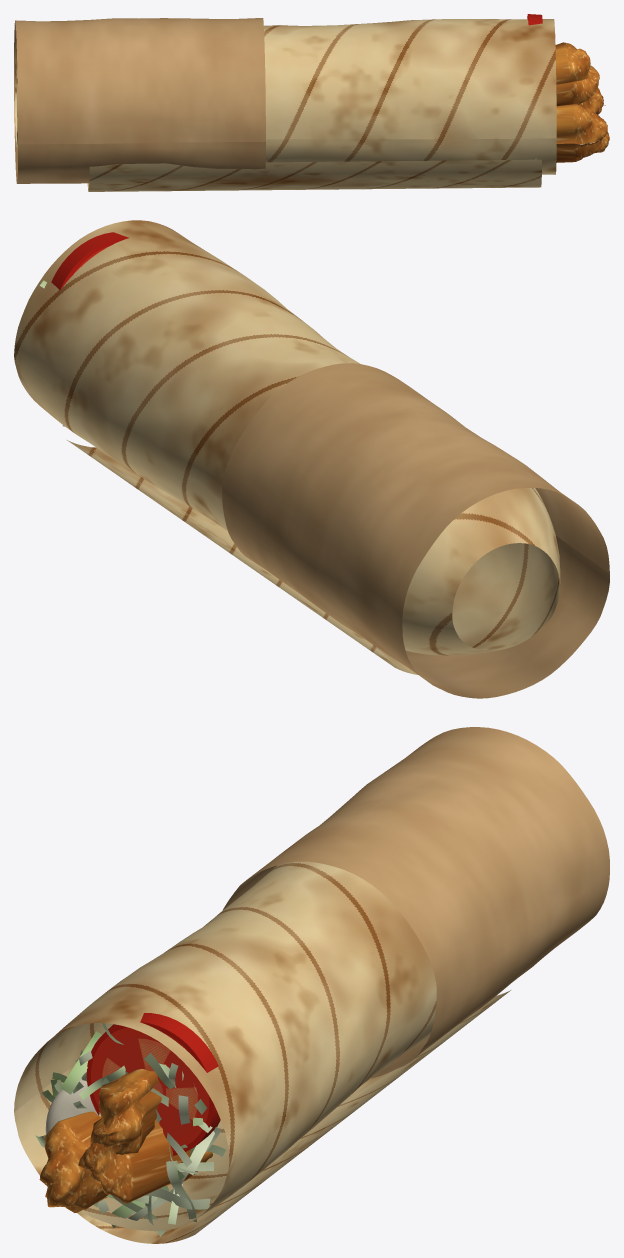
The model's file is wrap.glb.
3 views of the same model, one above another, from view 1: azimuth 30°, elevation 25°; view 2: azimuth 150°, elevation 25°; view 3: azimuth 270°, elevation 25° (orthographic). The views are drawn at different scales.
Parts seen in each view (by area): view 1: wrap; view 2: wrap; view 3: wrap.
Part boxes in pixels (bbox=[...]): wrap: bbox=[14, 14, 609, 191]; wrap: bbox=[14, 220, 609, 698]; wrap: bbox=[14, 727, 609, 1243].
Size of the model in its own units: 0.1776 by 0.0547 by 0.1289.
7 materials, 4 textured.
